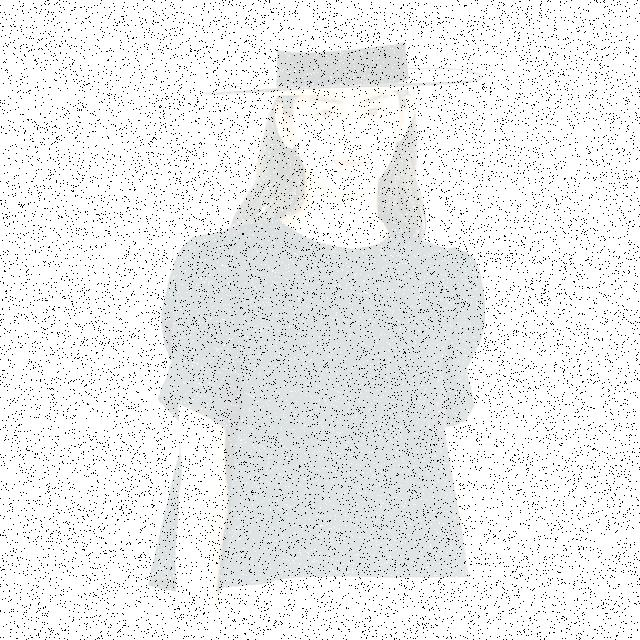dress: (146, 194, 510, 592)
